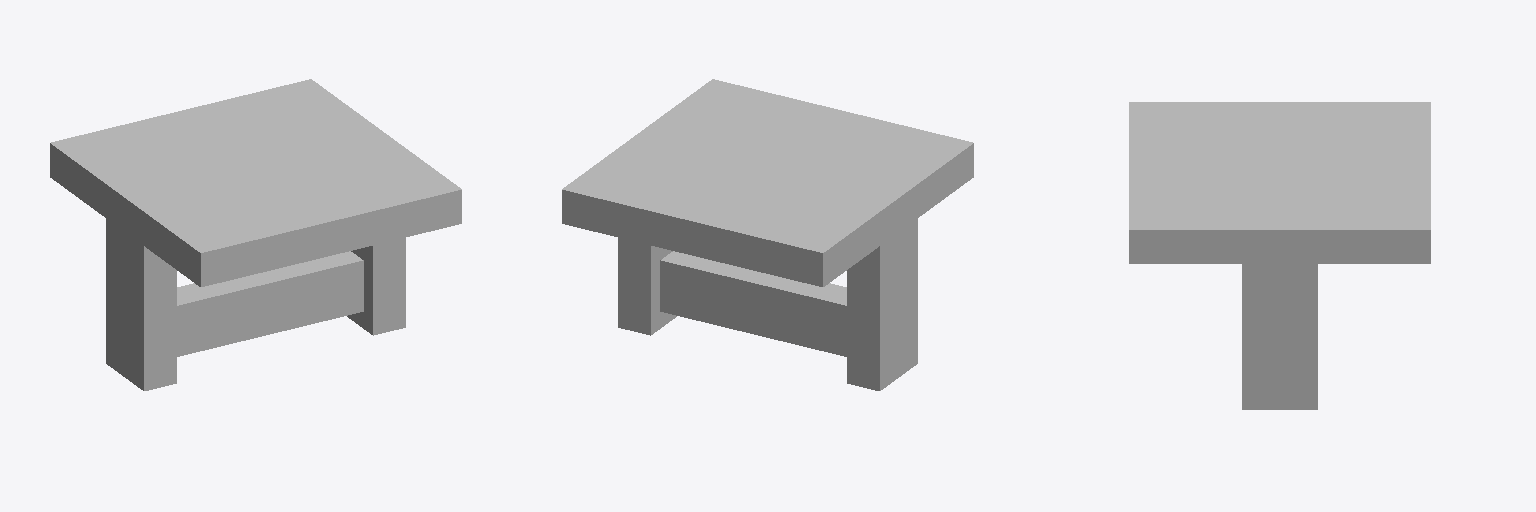
File: commutator.obj
The picture shows the model from 3 angles: view 1: azimuth 30°, elevation 25°; view 2: azimuth 150°, elevation 25°; view 3: azimuth 270°, elevation 25°; orthographic projection.
Visible parts, largest first — view 1: Commutator_Cube.038; view 2: Commutator_Cube.038; view 3: Commutator_Cube.038.
Boxes of the visible parts, box(x1,y1,x2,y2) form: Commutator_Cube.038: box(50, 79, 461, 390); Commutator_Cube.038: box(562, 79, 973, 390); Commutator_Cube.038: box(1129, 102, 1430, 409).
Size of the model in its own units: 1 by 0.6562 by 1.